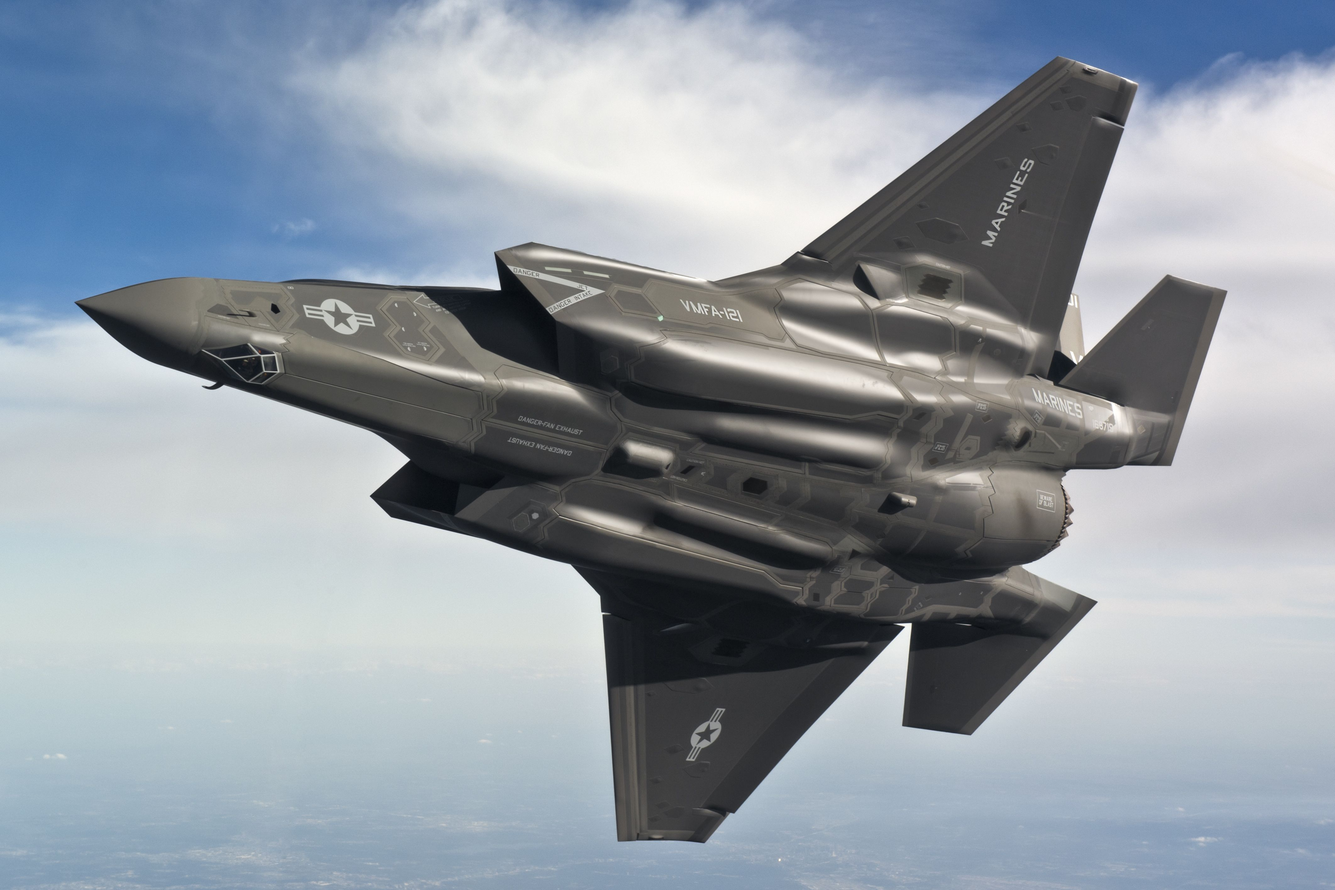F35: (66, 48, 1237, 850)
